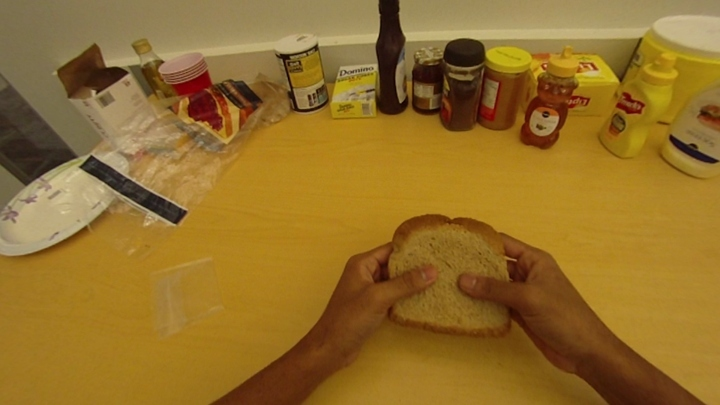hand: (458, 220, 600, 366), (322, 240, 438, 349)
